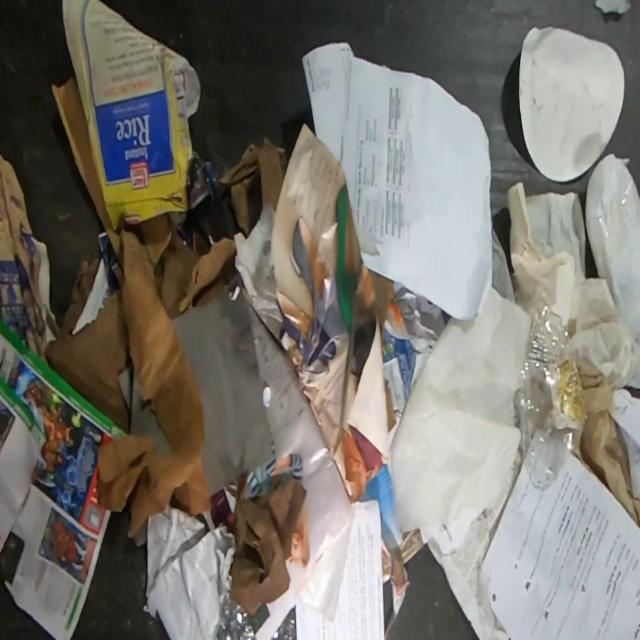cardboard: (62, 0, 200, 231), (51, 76, 123, 264), (218, 138, 287, 237)
rigid_plastic: (513, 284, 586, 490), (212, 594, 256, 640), (270, 605, 296, 640)
